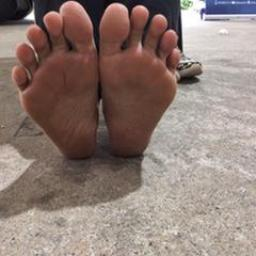Plantar View -Both Feet-: (7, 1, 190, 172)
